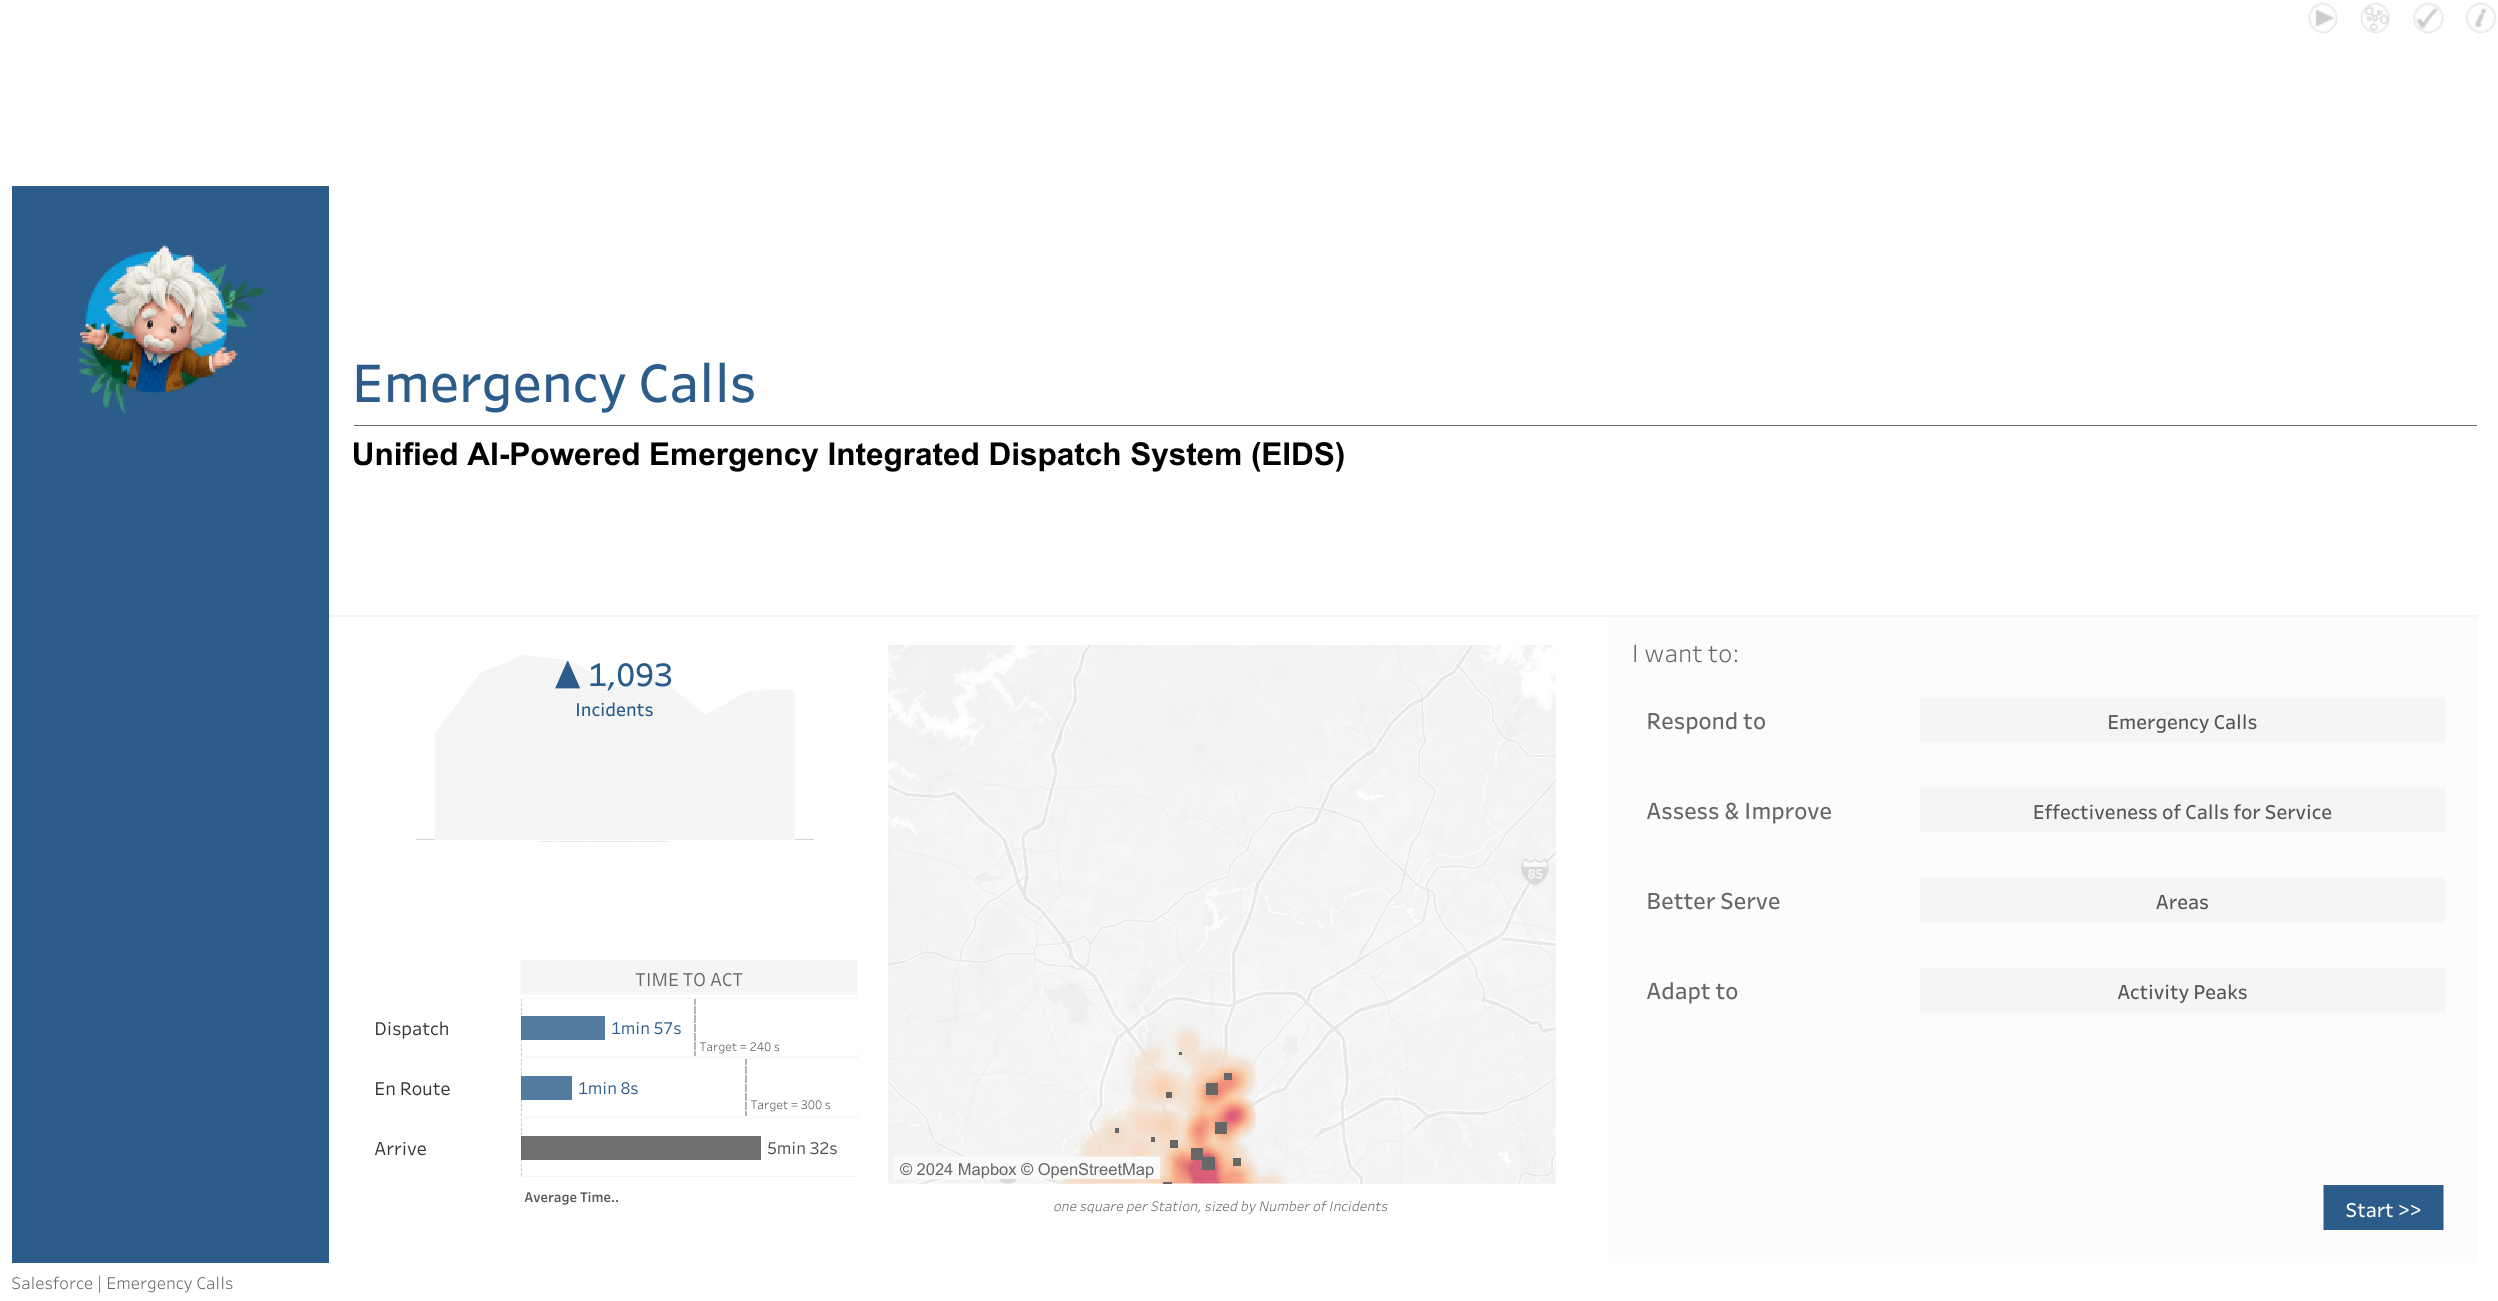

The page's visual inventory and layout, read from the dashboard file:
{"tool":"tableau","page":{"name":"Home","canvas":[1666,868],"ordinal":4},"visuals":[{"type":"dashboard-object","box":[0,0,10,10]},{"type":"dashboard-object","box":[1537,0,24,24]},{"type":"dashboard-object","box":[1572,0,24,24]},{"type":"dashboard-object","box":[1607,0,24,24]},{"type":"dashboard-object","box":[1642,0,24,24]},{"type":"image","param":"Image/Accelerators Best-Practices.PNG","box":[220,26,1411,794]},{"type":"text","box":[220,26,1443,248]},{"type":"text","box":[220,26,1376,645]},{"type":"web page","param":"https://www.youtube.com/embed/N15AxXQJNRk","box":[220,26,1340,815]},{"type":"text","box":[8,124,211,718]},{"type":"text","box":[0,125,1666,743]},{"type":"image","param":"Image/einst.png","box":[8,144,211,150]},{"type":"text","box":[232,214,1415,115]},{"type":"text","box":[220,274,722,553]},{"type":"text","box":[942,274,721,553]},{"type":"text","box":[236,283,1415,1]},{"type":"text","box":[217,410,1434,1]},{"type":"text","box":[1072,410,580,432]},{"type":"worksheet","title":"Incidents KPI - Perf Card (line chart)","mark":"Line","rows":["LinPack_668250895679271982_Card_PH"],"cols":["Incident Date Time","LinPack_461792063076599862"],"box":[247,430,325,130]},{"type":"blank","box":[572,430,20,380]},{"type":"worksheet","title":"Nb Incidents per Station (heatmap)","mark":"Heatmap","box":[592,430,445,380]},{"type":"text","box":[1095,465,185,30]},{"type":"dashboard-object","box":[1280,465,350,30]},{"type":"blank","box":[1095,495,535,30]},{"type":"text","box":[1095,525,185,30]},{"type":"dashboard-object","box":[1280,525,350,30]},{"type":"blank","box":[1095,555,535,30]},{"type":"blank","box":[247,560,325,80]},{"type":"text","box":[1095,585,185,30]},{"type":"dashboard-object","box":[1280,585,350,30]},{"type":"blank","box":[1095,615,535,30]},{"type":"blank","box":[247,640,100,23]},{"type":"text","box":[347,640,225,23]},{"type":"text","box":[1095,645,185,30]},{"type":"dashboard-object","box":[1280,645,350,30]},{"type":"blank","box":[247,663,325,2]},{"type":"text","box":[247,665,100,40]},{"type":"worksheet","title":"Avg Time To Dispatch","mark":"Bar","cols":["LinPack_765658137840815201"],"box":[347,665,225,40]},{"type":"text","box":[247,705,100,40]},{"type":"worksheet","title":"Avg Time To En Route","mark":"Bar","cols":["LinPack_440124847846034896"],"box":[347,705,225,40]},{"type":"text","box":[247,745,100,40]},{"type":"worksheet","title":"Avg Time To Arrive","mark":"Bar","cols":["LinPack_771045968697755549"],"box":[347,745,225,40]},{"type":"blank","box":[247,785,100,25]},{"type":"text","box":[347,785,225,25]},{"type":"dashboard-object","box":[1549,790,80,30]}]}

Visuals, with their boxes on the page's 1666x868 design canvas (x1, y1, x2, y2). These are canvas units, not pixel positions in the 2498x1301 screenshot, which may show the page scaled, cropped or inside an application window:
dashboard-object: (0,0,10,10)
dashboard-object: (1537,0,1561,24)
dashboard-object: (1572,0,1596,24)
dashboard-object: (1607,0,1631,24)
dashboard-object: (1642,0,1666,24)
image: (220,26,1631,820)
text: (220,26,1663,274)
text: (220,26,1596,671)
web page: (220,26,1560,841)
text: (8,124,219,842)
text: (0,125,1666,868)
image: (8,144,219,294)
text: (232,214,1647,329)
text: (220,274,942,827)
text: (942,274,1663,827)
text: (236,283,1651,284)
text: (217,410,1651,411)
text: (1072,410,1652,842)
"Incidents KPI - Perf Card (line chart)" worksheet (Line marks): (247,430,572,560)
blank: (572,430,592,810)
"Nb Incidents per Station (heatmap)" worksheet (Heatmap marks): (592,430,1037,810)
text: (1095,465,1280,495)
dashboard-object: (1280,465,1630,495)
blank: (1095,495,1630,525)
text: (1095,525,1280,555)
dashboard-object: (1280,525,1630,555)
blank: (1095,555,1630,585)
blank: (247,560,572,640)
text: (1095,585,1280,615)
dashboard-object: (1280,585,1630,615)
blank: (1095,615,1630,645)
blank: (247,640,347,663)
text: (347,640,572,663)
text: (1095,645,1280,675)
dashboard-object: (1280,645,1630,675)
blank: (247,663,572,665)
text: (247,665,347,705)
"Avg Time To Dispatch" worksheet (Bar marks): (347,665,572,705)
text: (247,705,347,745)
"Avg Time To En Route" worksheet (Bar marks): (347,705,572,745)
text: (247,745,347,785)
"Avg Time To Arrive" worksheet (Bar marks): (347,745,572,785)
blank: (247,785,347,810)
text: (347,785,572,810)
dashboard-object: (1549,790,1629,820)
